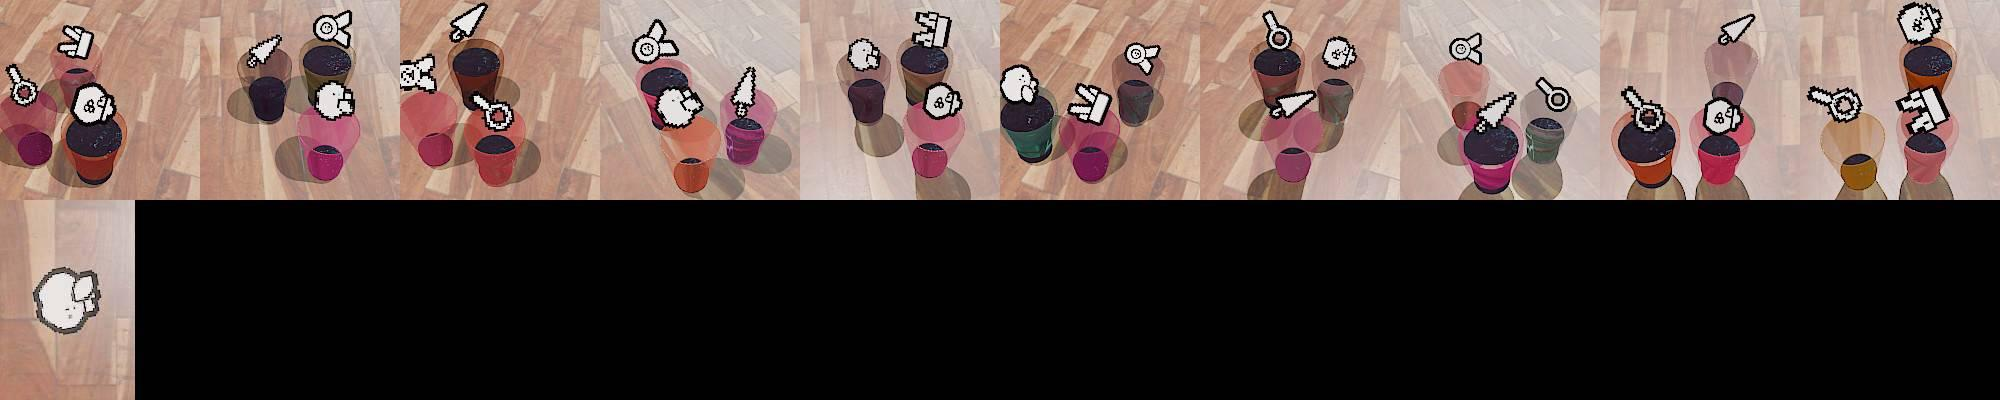icon: (31, 266, 102, 335), (1894, 84, 1951, 133), (653, 84, 704, 128), (630, 18, 678, 64), (1806, 84, 1862, 122), (1470, 90, 1518, 134), (1067, 81, 1113, 125), (70, 83, 118, 125), (1896, 2, 1942, 45), (1621, 85, 1663, 131), (310, 79, 355, 121), (469, 91, 515, 132), (1701, 95, 1744, 135), (1268, 88, 1318, 121), (398, 52, 438, 93), (5, 63, 41, 108), (922, 81, 963, 120), (312, 9, 353, 48), (912, 10, 953, 49), (449, 2, 488, 43), (730, 66, 759, 120), (1000, 63, 1039, 103), (1536, 75, 1574, 114), (57, 23, 95, 60), (245, 33, 283, 69), (1717, 12, 1756, 47), (1262, 9, 1293, 52), (1321, 35, 1357, 71), (1124, 42, 1161, 77), (846, 37, 881, 72), (1449, 31, 1484, 64)
